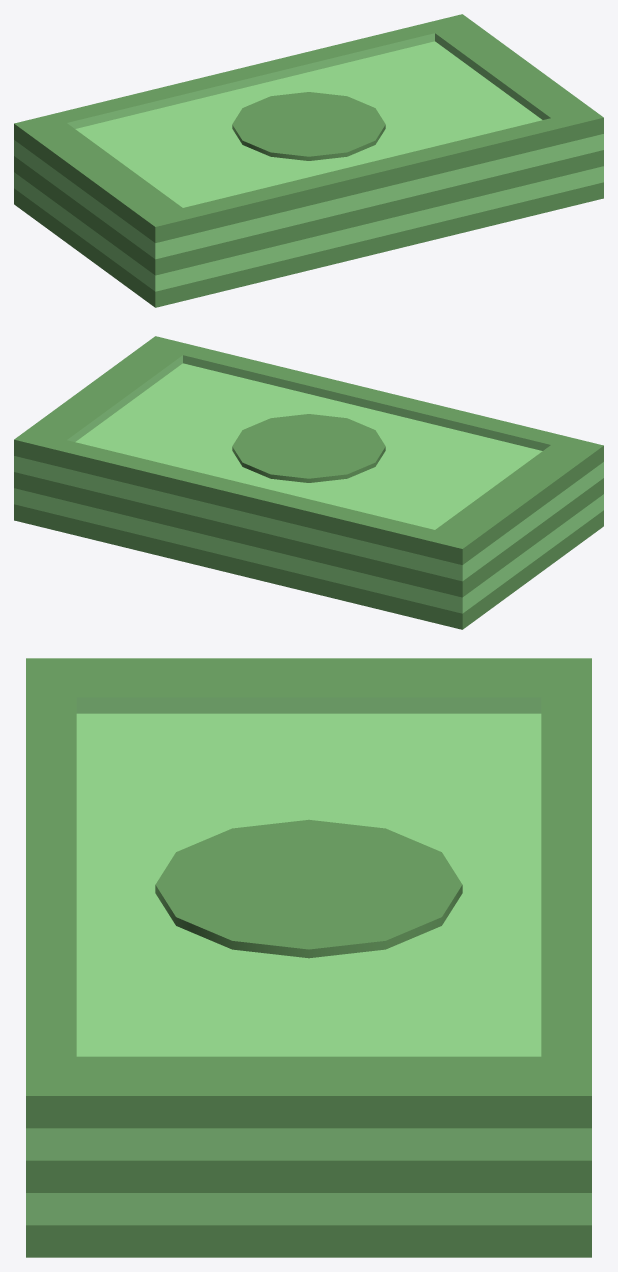
File: cash.fbx
3 views of the same model, one above another, from view 1: azimuth 30°, elevation 25°; view 2: azimuth 150°, elevation 25°; view 3: azimuth 270°, elevation 25° (orthographic). The views are drawn at different scales.
Parts seen in each view (by area): view 1: Cube.011; view 2: Cube.011; view 3: Cube.011.
Part boxes in pixels (x1,y1,x2,y2): Cube.011: (14,14,603,307); Cube.011: (14,336,603,629); Cube.011: (26,658,591,1257).
Size of the model in its own units: 1.77 by 0.3055 by 0.9688.
